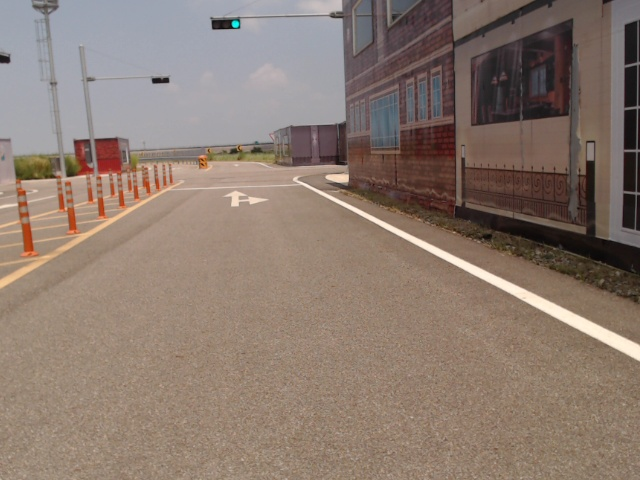green_3: (212, 19, 241, 29)
